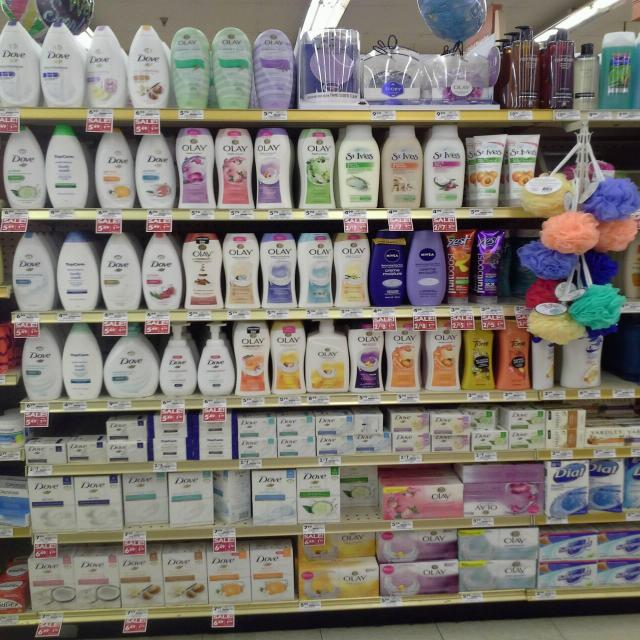empty_space: (608, 334, 640, 384)
